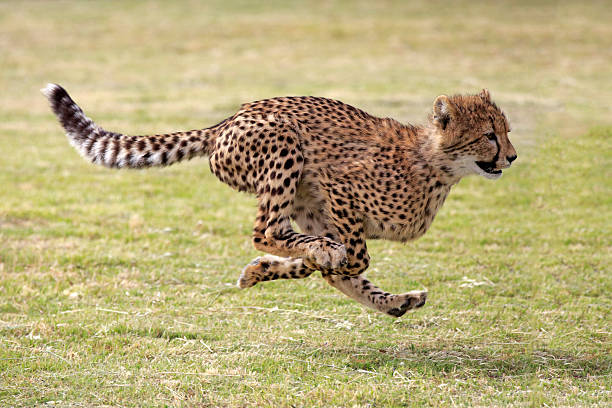cheetah: (426, 83, 534, 190)
